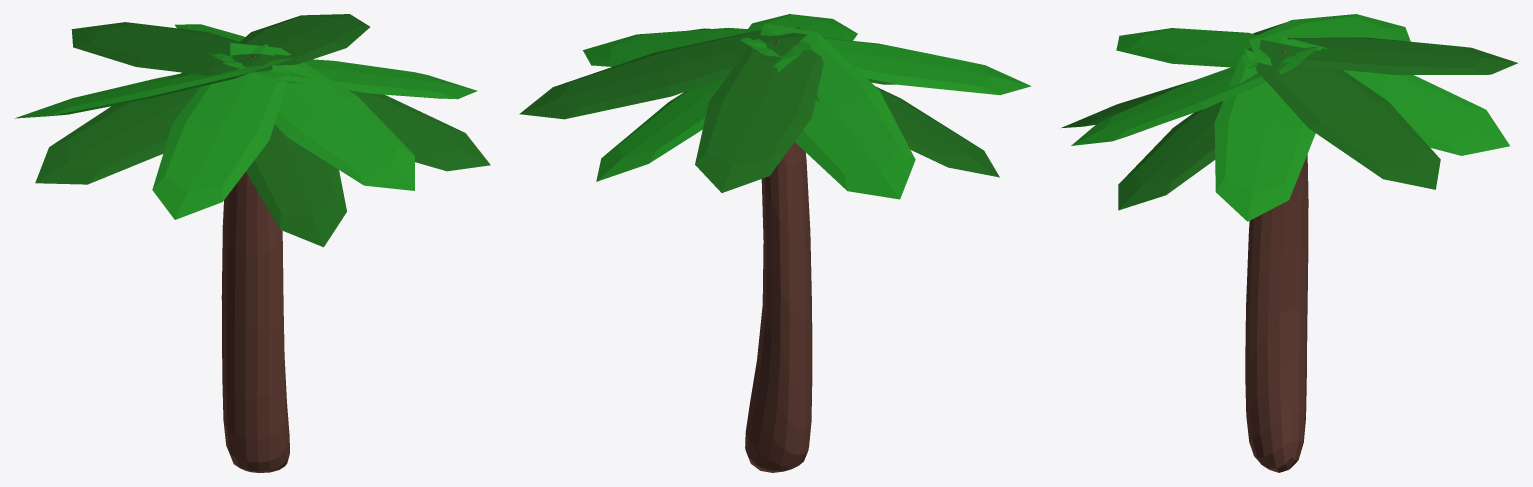
File: palm.fbx
3 views of the same model, side by side, from view 1: azimuth 30°, elevation 25°; view 2: azimuth 150°, elevation 25°; view 3: azimuth 270°, elevation 25° (orthographic). The views are drawn at different scales.
Visible parts, largest first — view 1: Cube, Cube.007, Cube.002, Cube.009, Cube.010, Cube.003, Cube.011, Cube.004, Cube.005, Cube.008, Cube.006; view 2: Cube, Cube.003, Cube.008, Cube.004, Cube.007, Cube.006, Cube.009, Cube.005, Cube.002; view 3: Cube, Cube.004, Cube.005, Cube.006, Cube.003, Cube.011, Cube.002, Cube.007, Cube.008, Cube.010.
Part boxes in pixels (x1=…): Cube: x1=221, y1=55, x2=289, y2=472; Cube.007: x1=152, y1=44, x2=289, y2=219; Cube.002: x1=230, y1=43, x2=414, y2=190; Cube.009: x1=35, y1=72, x2=199, y2=184; Cube.010: x1=246, y1=124, x2=346, y2=247; Cube.003: x1=71, y1=22, x2=272, y2=75; Cube.011: x1=350, y1=91, x2=490, y2=171; Cube.004: x1=227, y1=14, x2=369, y2=65; Cube.005: x1=223, y1=59, x2=477, y2=99; Cube.008: x1=14, y1=58, x2=292, y2=118; Cube.006: x1=175, y1=24, x2=274, y2=74; Cube: x1=745, y1=40, x2=812, y2=472; Cube.003: x1=695, y1=26, x2=823, y2=192; Cube.008: x1=760, y1=24, x2=915, y2=199; Cube.004: x1=519, y1=29, x2=807, y2=119; Cube.007: x1=747, y1=38, x2=1031, y2=95; Cube.006: x1=596, y1=41, x2=803, y2=181; Cube.009: x1=816, y1=86, x2=999, y2=177; Cube.005: x1=583, y1=27, x2=811, y2=66; Cube.002: x1=740, y1=14, x2=857, y2=57; Cube: x1=1245, y1=49, x2=1308, y2=472; Cube.004: x1=1256, y1=39, x2=1440, y2=189; Cube.005: x1=1214, y1=34, x2=1315, y2=221; Cube.006: x1=1244, y1=39, x2=1509, y2=155; Cube.003: x1=1245, y1=37, x2=1517, y2=74; Cube.011: x1=1118, y1=101, x2=1222, y2=210; Cube.002: x1=1071, y1=46, x2=1319, y2=145; Cube.007: x1=1116, y1=28, x2=1301, y2=68; Cube.008: x1=1249, y1=14, x2=1410, y2=65; Cube.010: x1=1061, y1=81, x2=1191, y2=127.
Size of the model in its own units: 1387 by 1313 by 1311.
